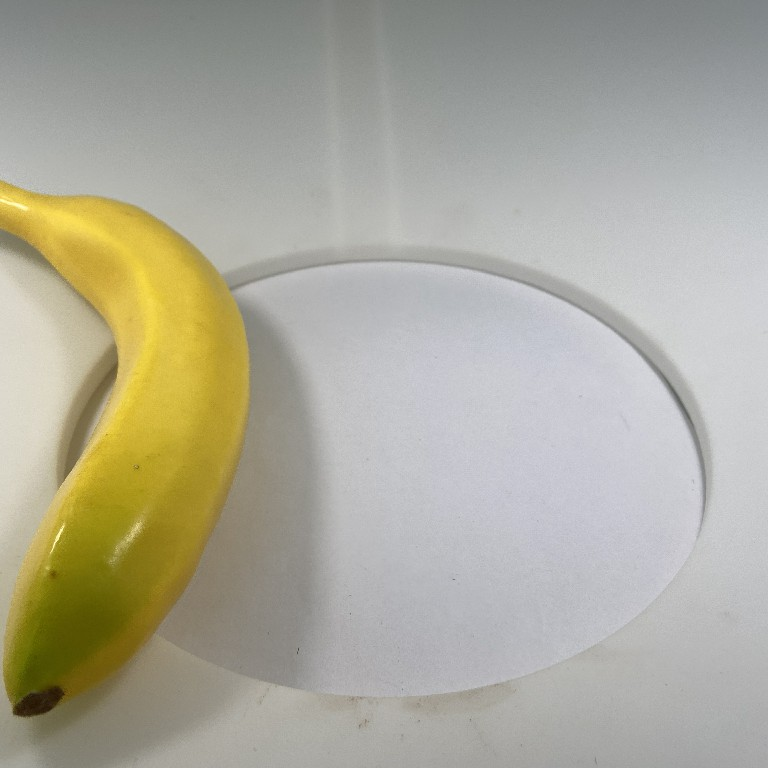fruit_banana: (1, 174, 255, 731)
